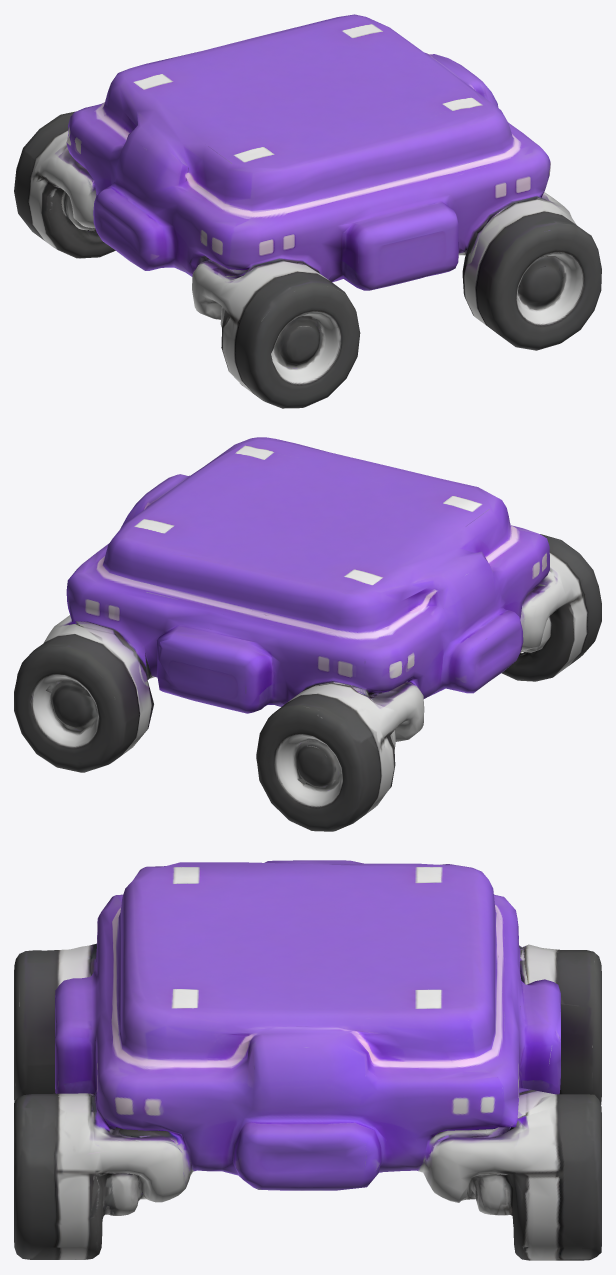
The model's file is Moving Wall_texture.fbx.
3 renders of one model, top to bottom at view 1: azimuth 30°, elevation 25°; view 2: azimuth 150°, elevation 25°; view 3: azimuth 270°, elevation 25°, orthographic. The views are drawn at different scales.
Parts seen in each view (by area): view 1: Mesh0; view 2: Mesh0; view 3: Mesh0.
Part boxes in pixels (x1,y1,x2,y2): Mesh0: (14, 14, 601, 408); Mesh0: (14, 437, 601, 831); Mesh0: (14, 860, 601, 1260).
Size of the model in its own units: 174 by 88.38 by 192.
Materials: 1 (1 with a texture image).
